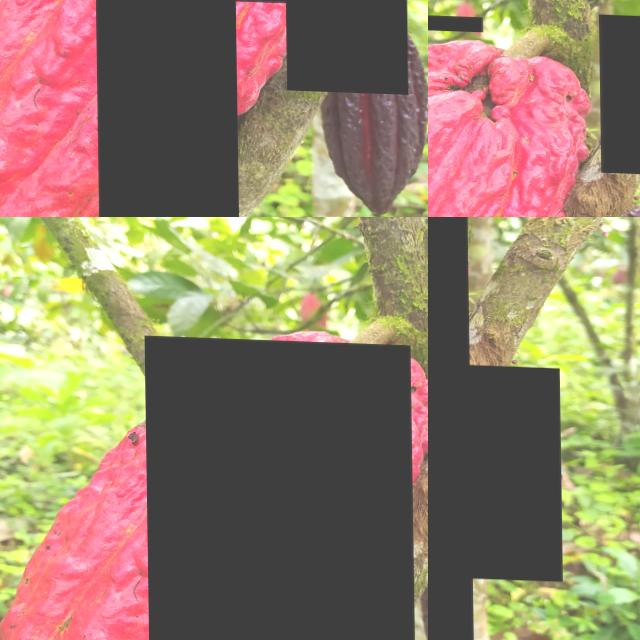Fitoftora: (283, 0, 407, 90)
Sana: (144, 334, 415, 640), (94, 0, 237, 217), (451, 361, 561, 577), (428, 217, 472, 640), (599, 11, 640, 171), (591, 39, 625, 121), (428, 12, 482, 29), (440, 48, 458, 64)
